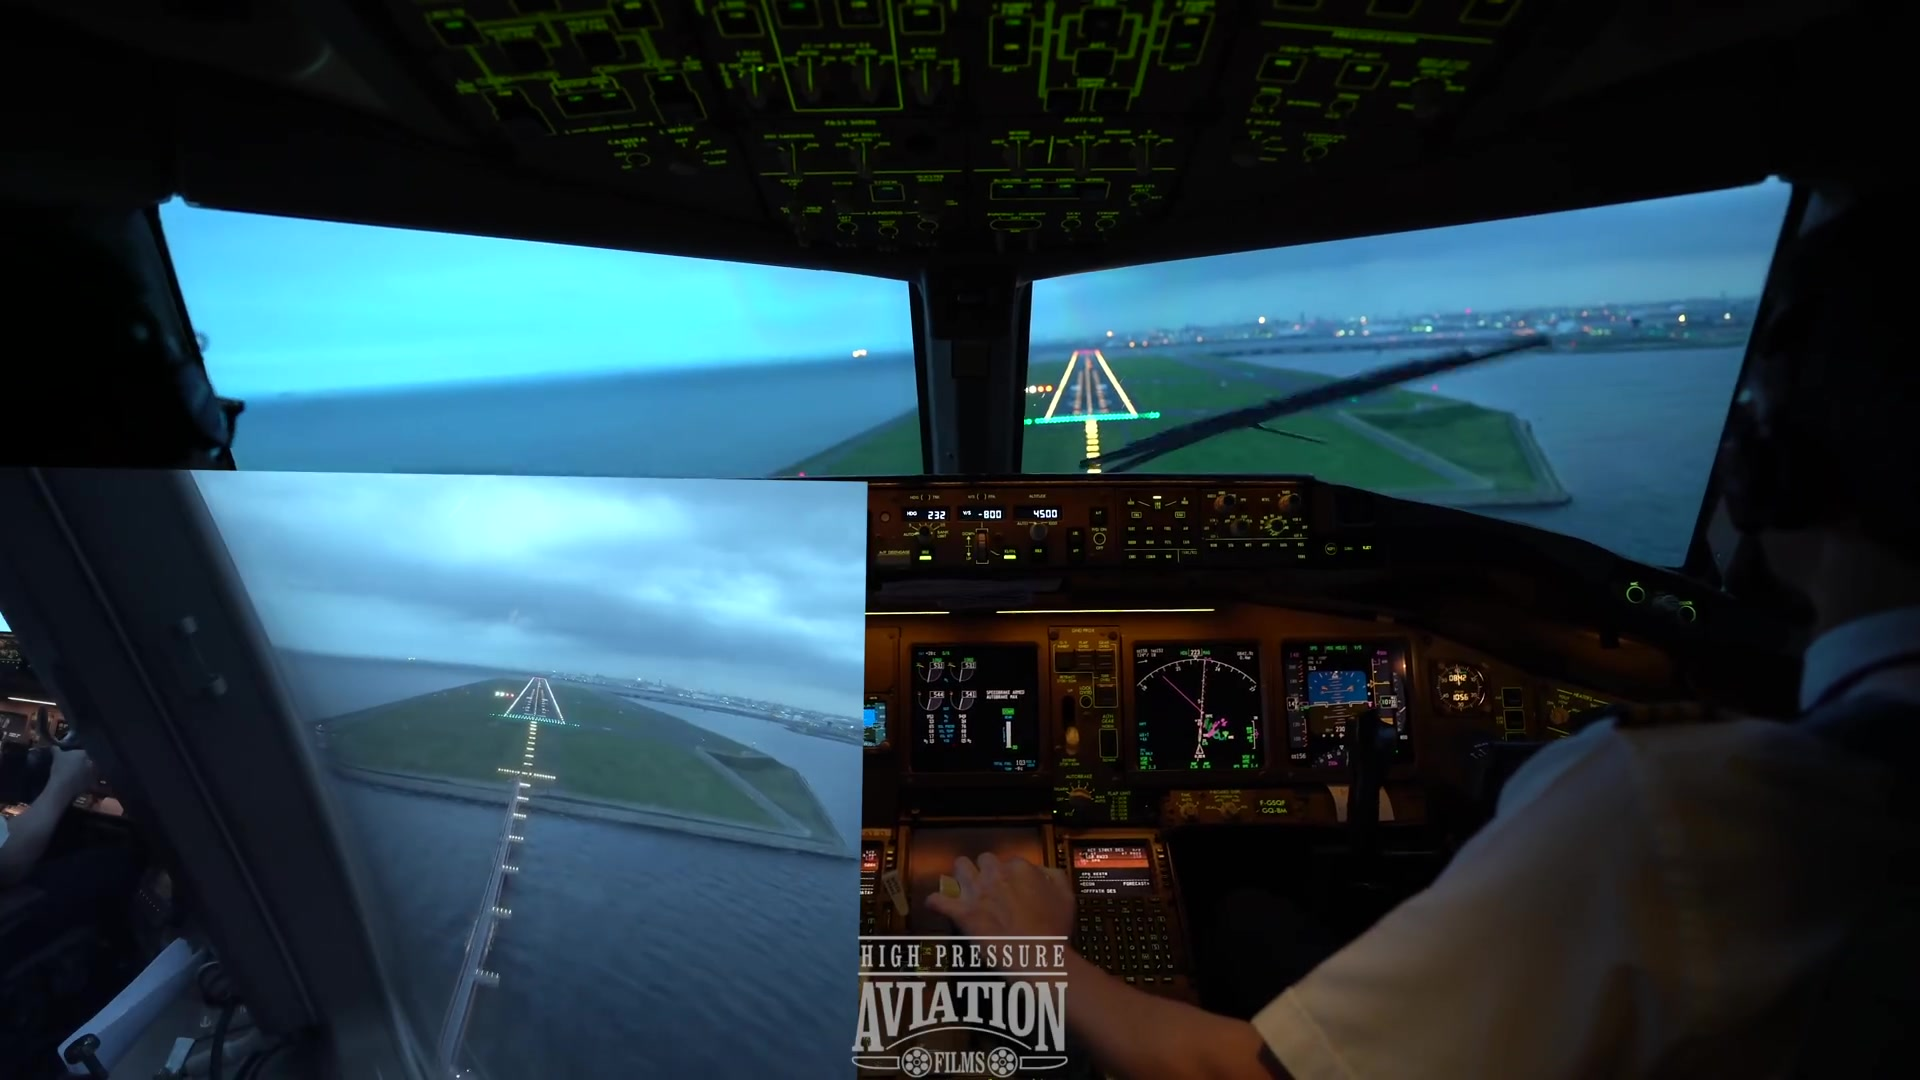runway: (1044, 349, 1137, 425), (497, 674, 566, 721)
